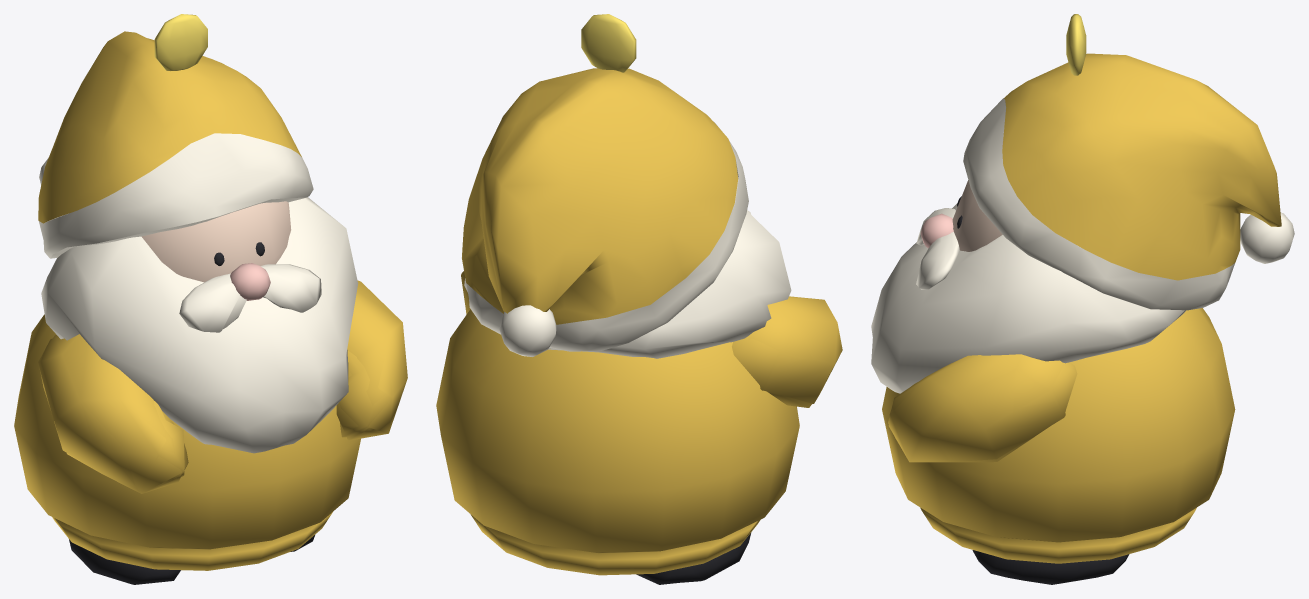
Rendered from golden.glb.
The picture shows the model from 3 angles, left to right: view 1: azimuth 30°, elevation 25°; view 2: azimuth 150°, elevation 25°; view 3: azimuth 270°, elevation 25°; orthographic projection. The views are drawn at different scales.
Visible parts, largest first — view 1: golden_red, golden_white, golden_skin, golden_yellow, golden_black, golden_nose; view 2: golden_red, golden_white, golden_yellow, golden_black; view 3: golden_red, golden_white, golden_black, golden_skin, golden_yellow, golden_nose.
Boxes of the visible parts, x1=… form: golden_red: x1=14, y1=31, x2=407, y2=570; golden_white: x1=39, y1=133, x2=358, y2=453; golden_skin: x1=141, y1=153, x2=291, y2=282; golden_yellow: x1=154, y1=14, x2=207, y2=71; golden_black: x1=69, y1=242, x2=314, y2=584; golden_nose: x1=230, y1=263, x2=270, y2=300; golden_red: x1=436, y1=68, x2=842, y2=575; golden_white: x1=464, y1=121, x2=791, y2=358; golden_yellow: x1=581, y1=14, x2=636, y2=72; golden_black: x1=636, y1=532, x2=751, y2=584; golden_red: x1=882, y1=53, x2=1281, y2=563; golden_white: x1=871, y1=98, x2=1294, y2=393; golden_black: x1=957, y1=196, x2=1129, y2=584; golden_skin: x1=952, y1=139, x2=1054, y2=251; golden_yellow: x1=1066, y1=14, x2=1086, y2=75; golden_nose: x1=920, y1=213, x2=953, y2=247.
Size of the model in its own units: 2.25 by 3.27 by 2.4.
